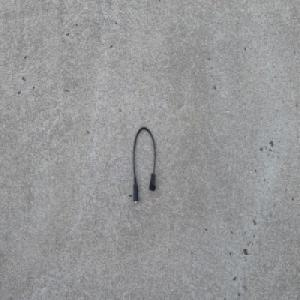Wire: (131, 126, 156, 205)
